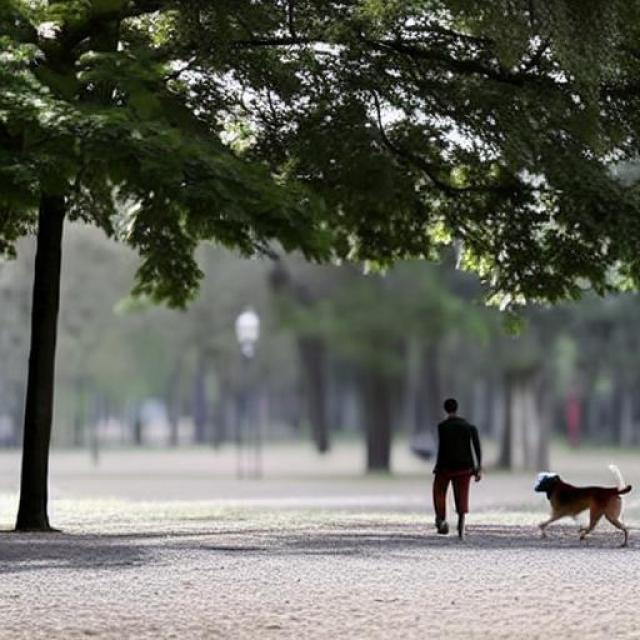Unleashed_Dog: (449, 453, 633, 549)
